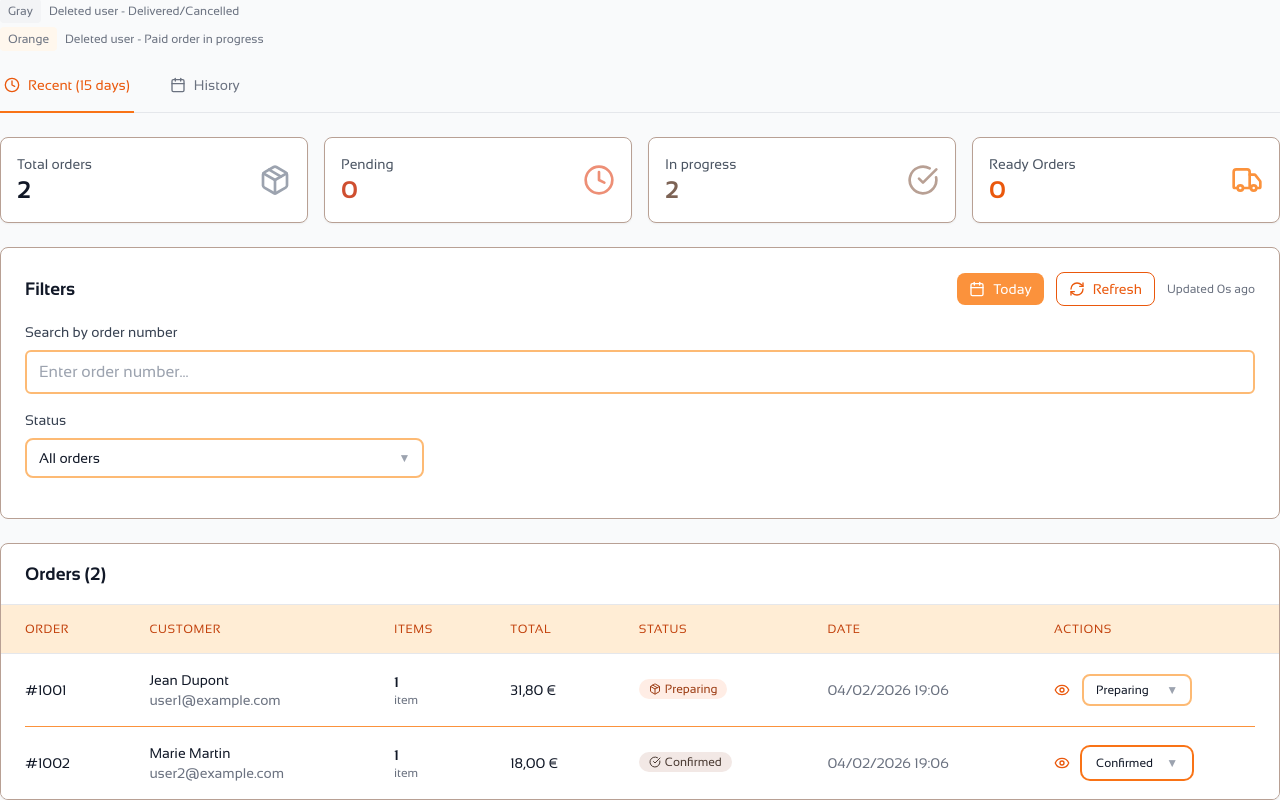
Test: OrdersManagement Component › should open order details modal when eye icon is clicked
(page scrolled)
Expected: the text "Jean Dupont" is shown, [149,672,229,688]
Click the button titled "View details" in the row of "1001" at coordinates (1062, 690), box [1054,682,1070,698]
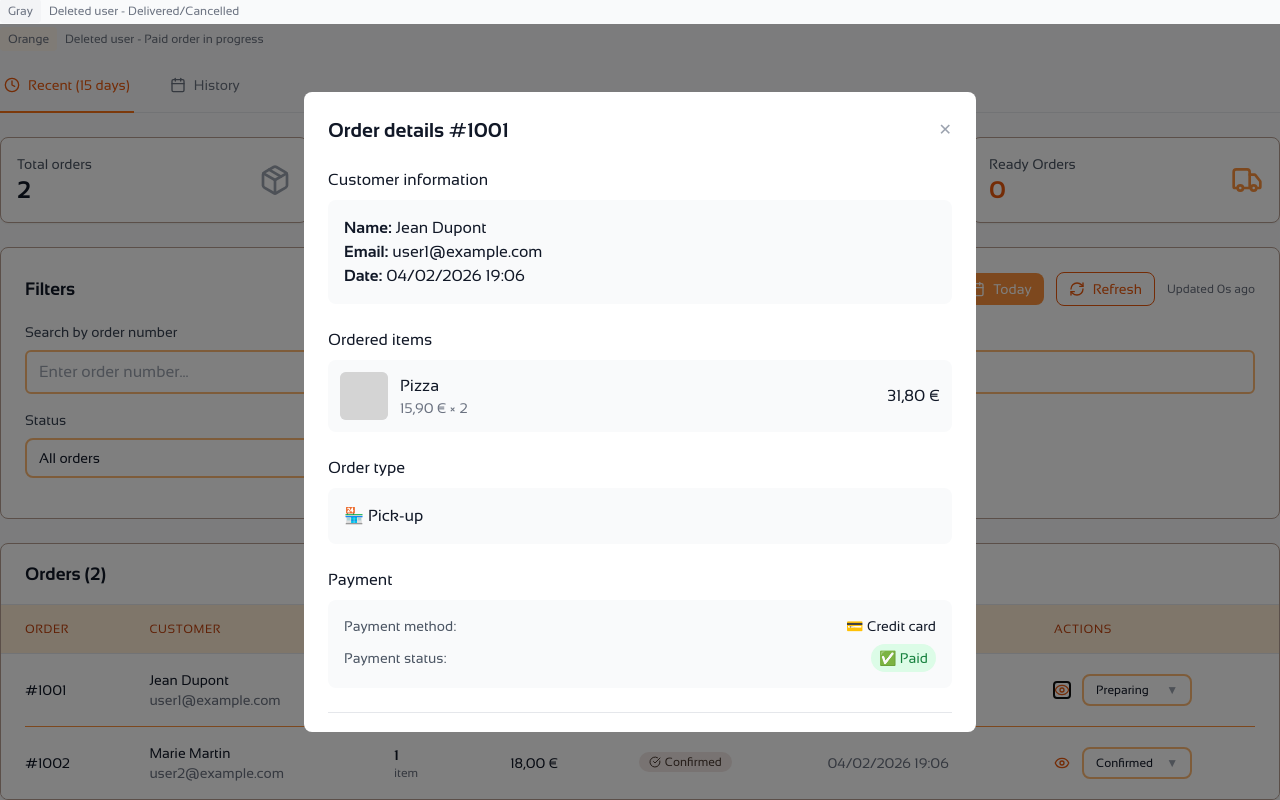
Result: the heading "Order details #1001" is shown at [328,116,509,144]
